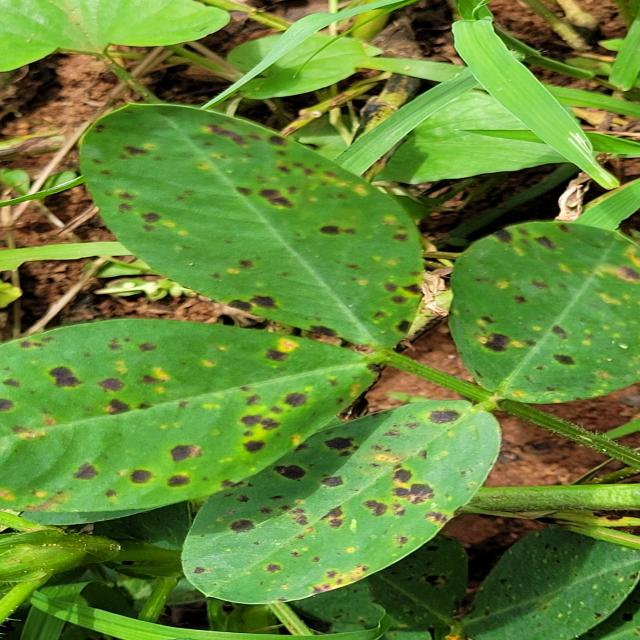Ground nut_tikka leaf spot: (71, 102, 438, 351), (0, 318, 391, 520), (176, 396, 506, 604)
